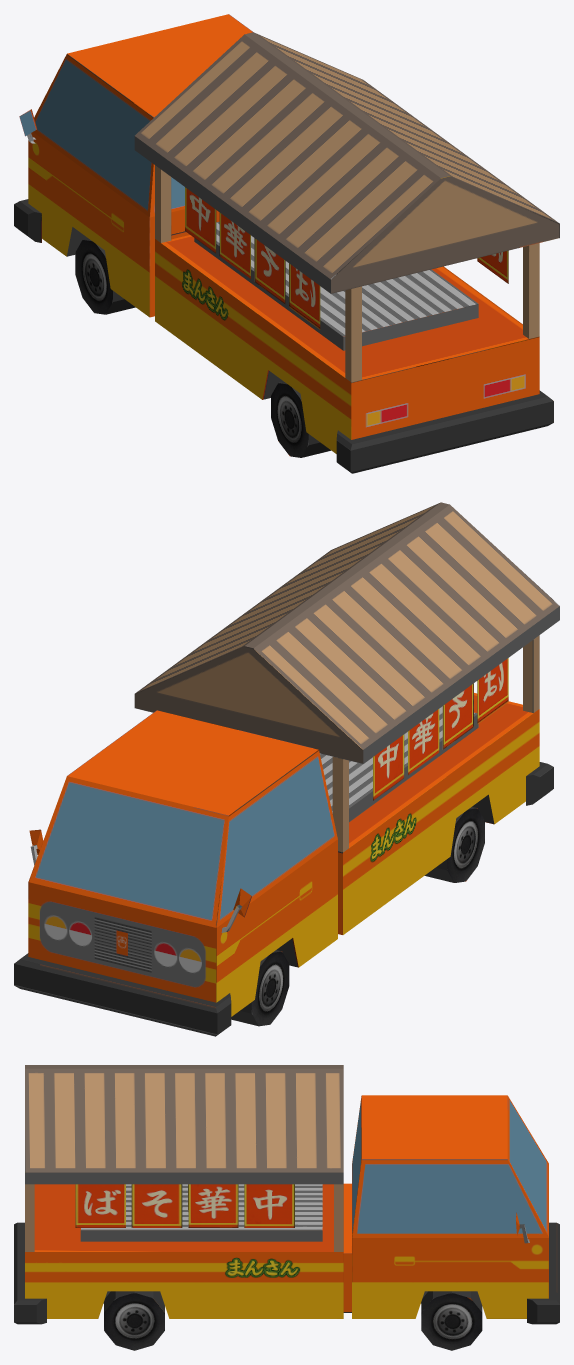
Rendered from MOBIL TRUK FINAL.fbx.
The picture shows the model from 3 angles, top to bottom: view 1: azimuth 30°, elevation 25°; view 2: azimuth 150°, elevation 25°; view 3: azimuth 270°, elevation 25°; orthographic projection. The views are drawn at different scales.
Visible parts, largest first — view 1: Mobil truk; view 2: Mobil truk; view 3: Mobil truk.
Boxes of the visible parts, bbox=[...] form: Mobil truk: bbox=[14, 14, 559, 473]; Mobil truk: bbox=[14, 502, 559, 1036]; Mobil truk: bbox=[14, 1065, 559, 1350].
Bounding box in the file's own units: 419 × 532 × 1057.
Materials: 1 (1 with a texture image).
